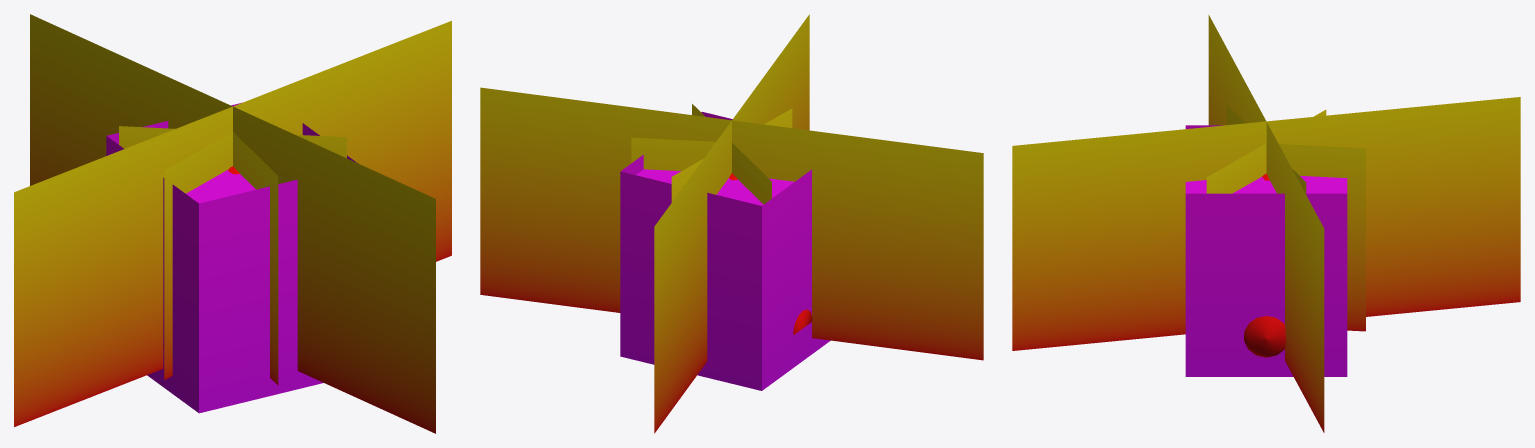
The model's file is jz_schemu.glb.
3 views of the same model, side by side, from view 1: azimuth 30°, elevation 25°; view 2: azimuth 150°, elevation 25°; view 3: azimuth 270°, elevation 25° (orthographic). The views are drawn at different scales.
Visible parts, largest first — view 1: Emmer_Fern, Feldblock, Emmer; view 2: Emmer_Fern, Feldblock, Emmer; view 3: Emmer_Fern, Feldblock, Emmer, Garbe_liegend.
Part boxes in pixels (x1=…): Emmer_Fern: x1=14, y1=14, x2=451, y2=433; Feldblock: x1=106, y1=103, x2=356, y2=413; Emmer: x1=119, y1=126, x2=346, y2=385; Emmer_Fern: x1=480, y1=14, x2=983, y2=433; Feldblock: x1=620, y1=111, x2=830, y2=390; Emmer: x1=631, y1=104, x2=792, y2=204; Emmer_Fern: x1=1012, y1=15, x2=1520, y2=432; Feldblock: x1=1185, y1=125, x2=1347, y2=376; Emmer: x1=1206, y1=105, x2=1365, y2=331; Garbe_liegend: x1=1244, y1=316, x2=1285, y2=357.
Size of the model in its own units: 3.14 by 1.51 by 3.14.
